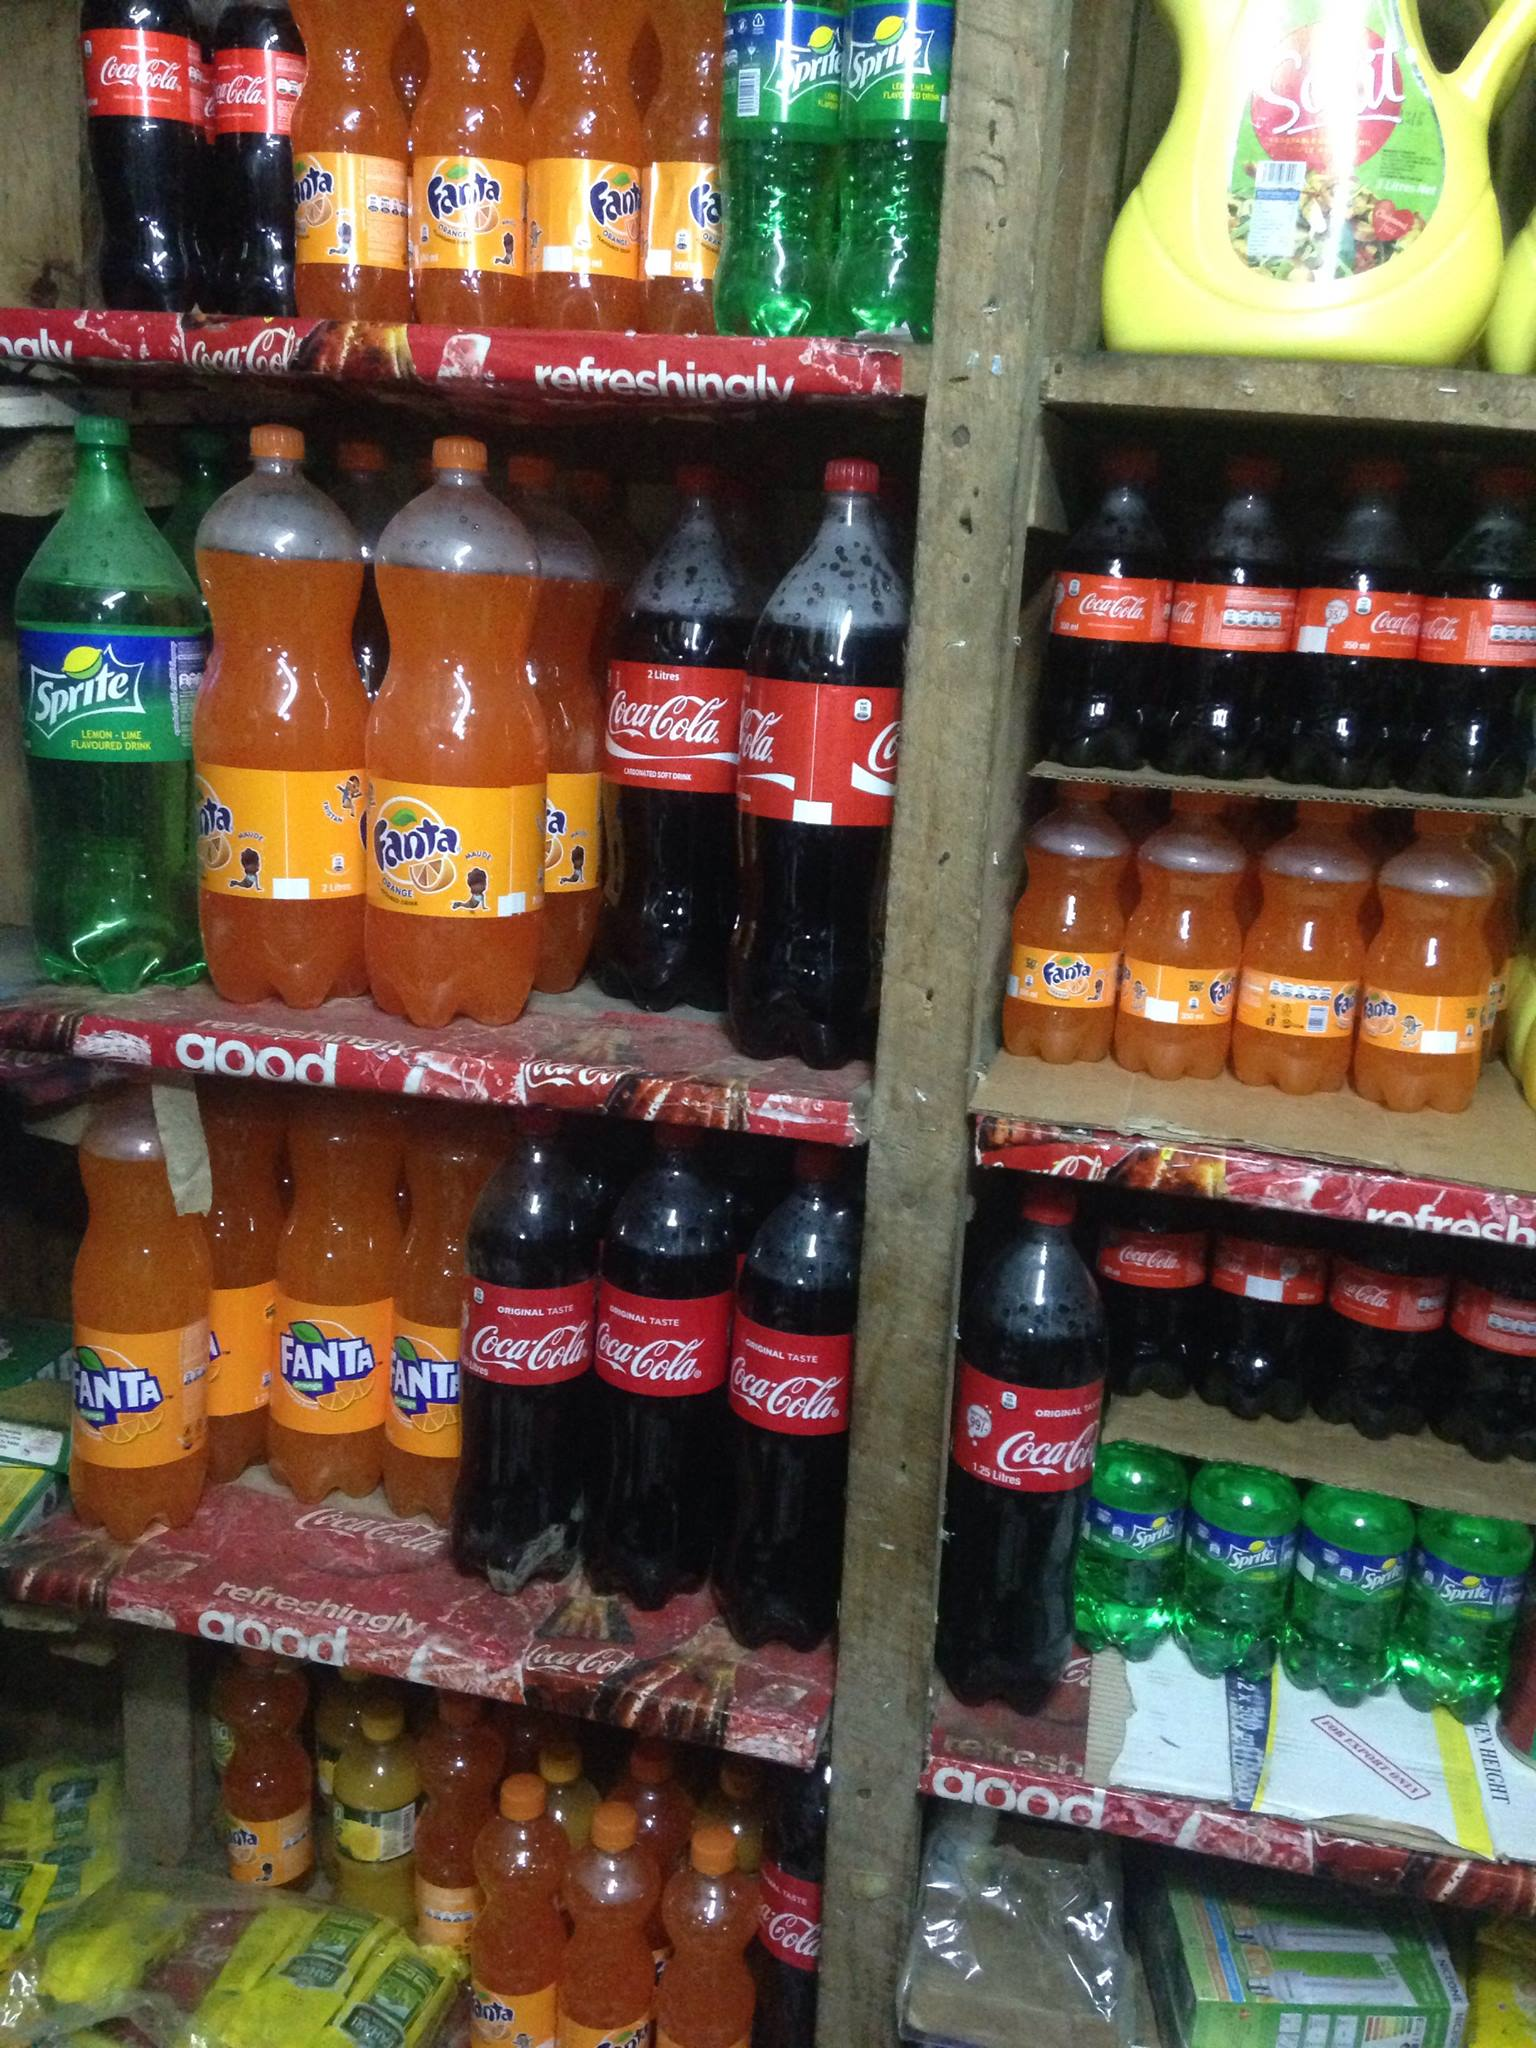cocacola: (607, 682, 724, 750), (728, 1359, 842, 1429), (599, 1329, 710, 1388), (470, 1319, 592, 1372), (97, 47, 184, 97), (1078, 589, 1155, 626), (1120, 1238, 1184, 1279)
fanta: (369, 806, 460, 885), (274, 1332, 378, 1393), (68, 1363, 173, 1413), (418, 156, 499, 221), (1041, 956, 1094, 993), (1362, 992, 1396, 1042)
sprite: (31, 658, 144, 732), (844, 23, 936, 95), (770, 35, 844, 102), (1438, 1580, 1492, 1613), (1357, 1563, 1405, 1596), (1129, 1522, 1175, 1553), (1229, 1546, 1275, 1572)
